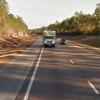Tree: (63, 6, 100, 37)
